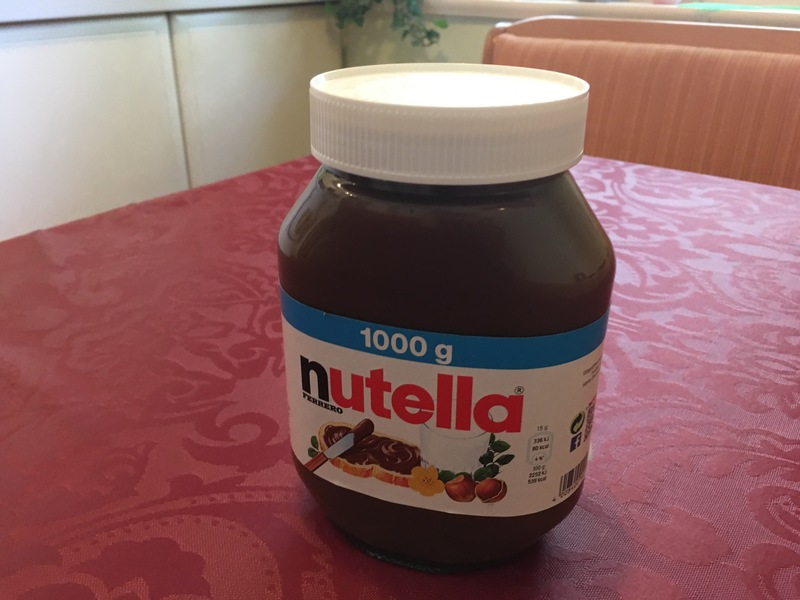nutella: (278, 62, 617, 578)
